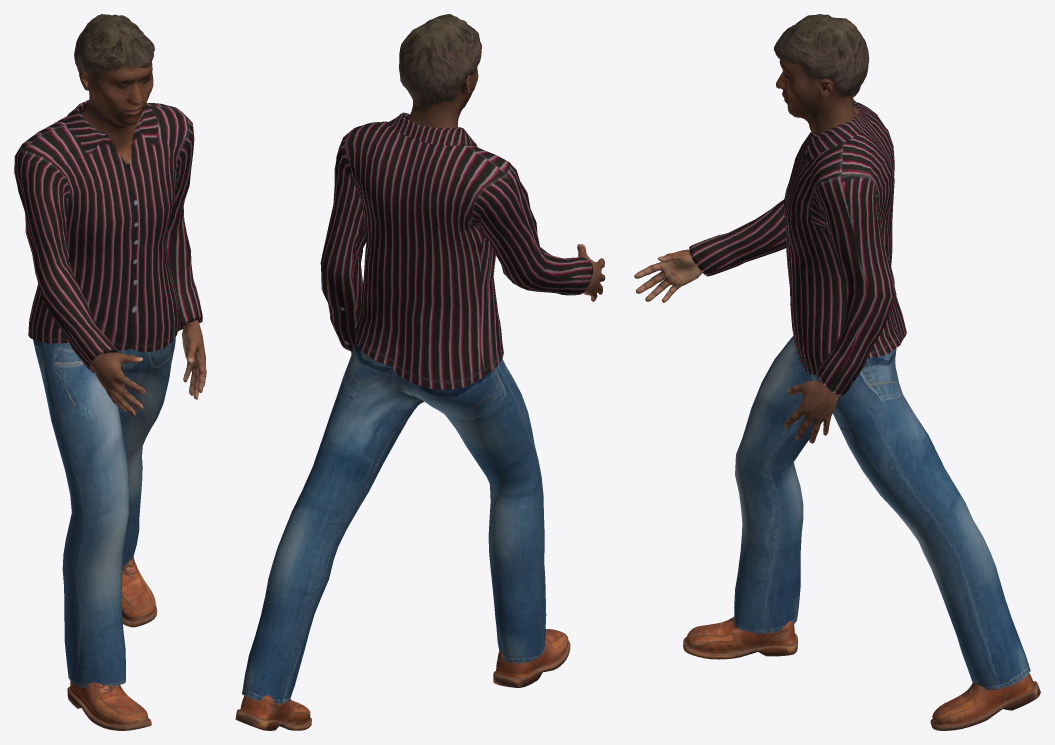
The model's file is uomo-02.glb.
3 renders of one model, left to right at view 1: azimuth 30°, elevation 25°; view 2: azimuth 150°, elevation 25°; view 3: azimuth 270°, elevation 25°, orthographic.
Visible parts, largest first — view 1: Human.male_casualsuit03, Human, Human.shoes01, Human.short02; view 2: Human.male_casualsuit03, Human.short02, Human.shoes01, Human; view 3: Human.male_casualsuit03, Human, Human.shoes01, Human.short02.
Part boxes in pixels (x1,y1,x2,y2): Human.male_casualsuit03: [14, 100, 202, 687]; Human: [79, 62, 206, 416]; Human.shoes01: [67, 557, 157, 730]; Human.short02: [74, 14, 154, 84]; Human.male_casualsuit03: [242, 112, 593, 703]; Human.short02: [399, 14, 481, 107]; Human.shoes01: [235, 629, 570, 730]; Human: [351, 67, 605, 354]; Human.male_casualsuit03: [689, 99, 1030, 689]; Human: [634, 58, 858, 443]; Human.shoes01: [683, 616, 1040, 730]; Human.short02: [774, 14, 869, 97].
Size of the model in its own units: 0.5583 by 1.81 by 0.9955.
Materials: 12 (12 with a texture image).
